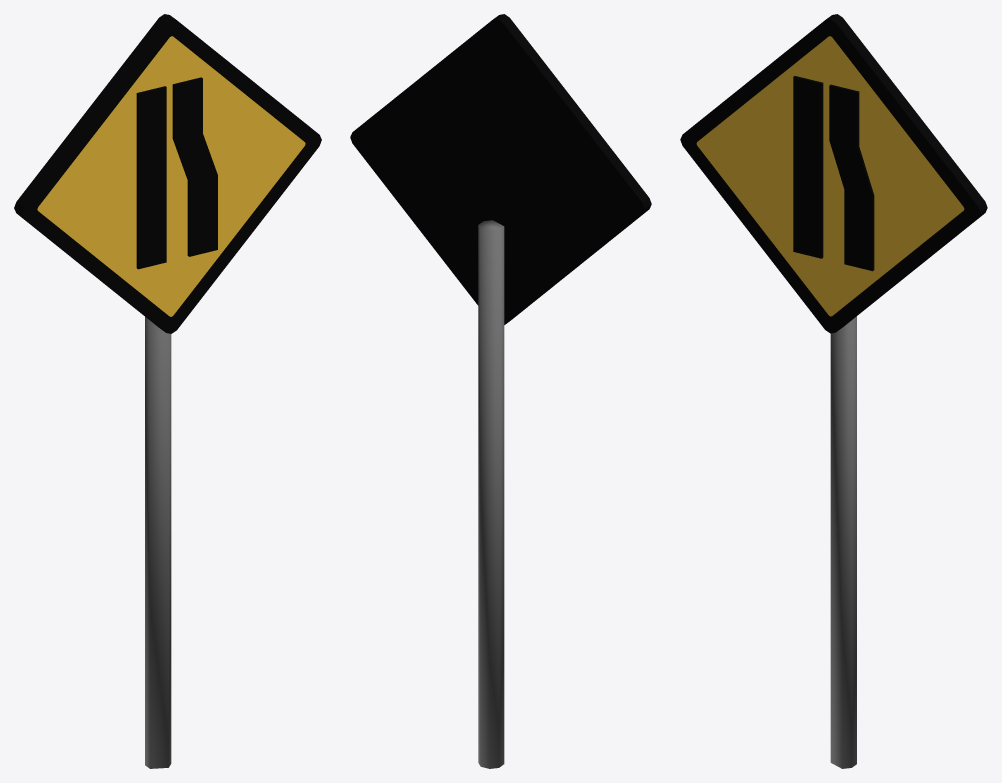
File: Prop_StreetSign_RoadNarrows.fbx
The picture shows the model from 3 angles, left to right: view 1: azimuth 30°, elevation 25°; view 2: azimuth 150°, elevation 25°; view 3: azimuth 330°, elevation 25°; orthographic projection. The views are drawn at different scales.
Parts seen in each view (by area): view 1: Prop_StreetSign_RoadNarrows; view 2: Prop_StreetSign_RoadNarrows; view 3: Prop_StreetSign_RoadNarrows.
Boxes of the visible parts, bbox=[...] form: Prop_StreetSign_RoadNarrows: bbox=[14, 14, 321, 768]; Prop_StreetSign_RoadNarrows: bbox=[350, 14, 651, 768]; Prop_StreetSign_RoadNarrows: bbox=[680, 14, 987, 768].
Bounding box in the file's own units: 190 × 455 × 23.54.
